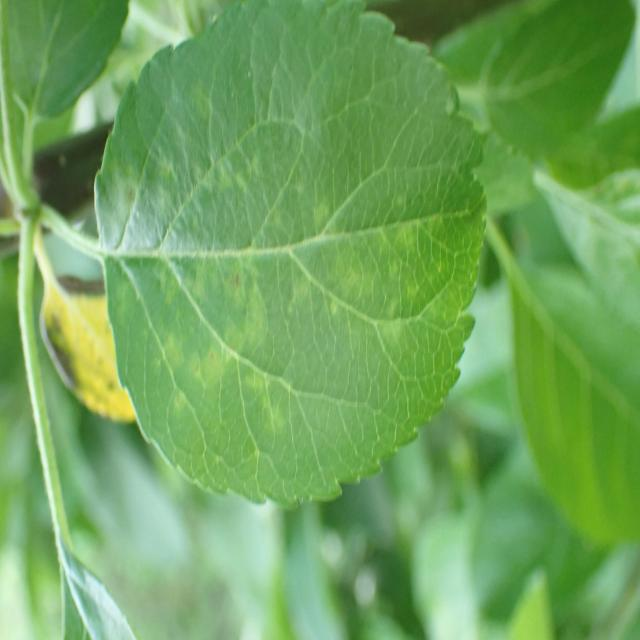scab: (105, 141, 447, 448)
